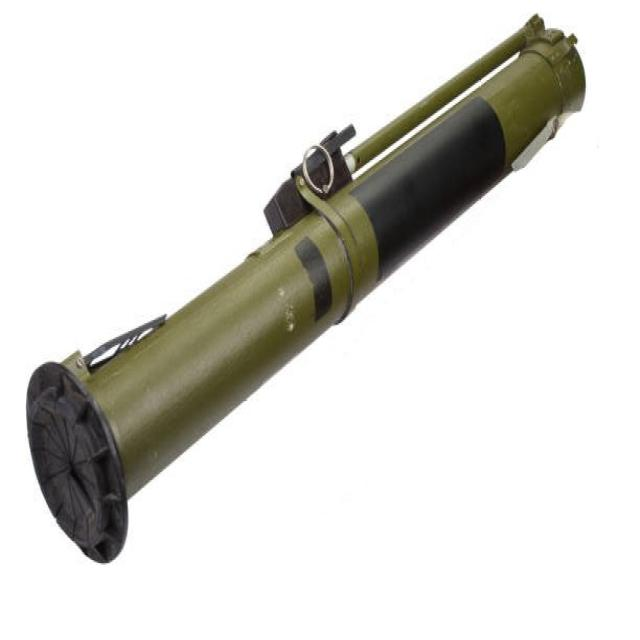bazooka: (21, 12, 593, 570)
